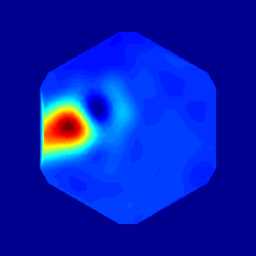ship: (83, 100, 113, 126)
wave: (47, 108, 94, 139)
